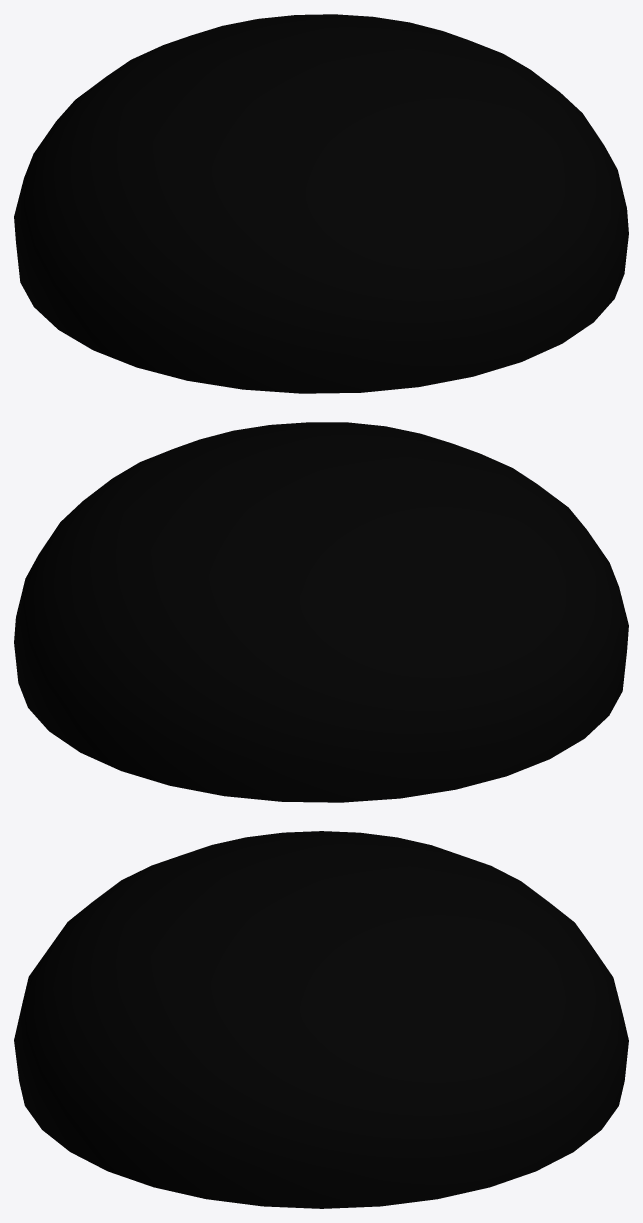
The model's file is skydome.glb.
3 views of the same model, one above another, from view 1: azimuth 30°, elevation 25°; view 2: azimuth 150°, elevation 25°; view 3: azimuth 270°, elevation 25° (orthographic).
Parts seen in each view (by area): view 1: sky; view 2: sky; view 3: sky.
Part boxes in pixels (x1=…): sky: x1=14, y1=14, x2=628, y2=393; sky: x1=14, y1=422, x2=628, y2=802; sky: x1=14, y1=831, x2=628, y2=1208.
Bounding box in the file's own units: 2907 × 1051 × 2908.
Materials: 3 (3 with a texture image).
